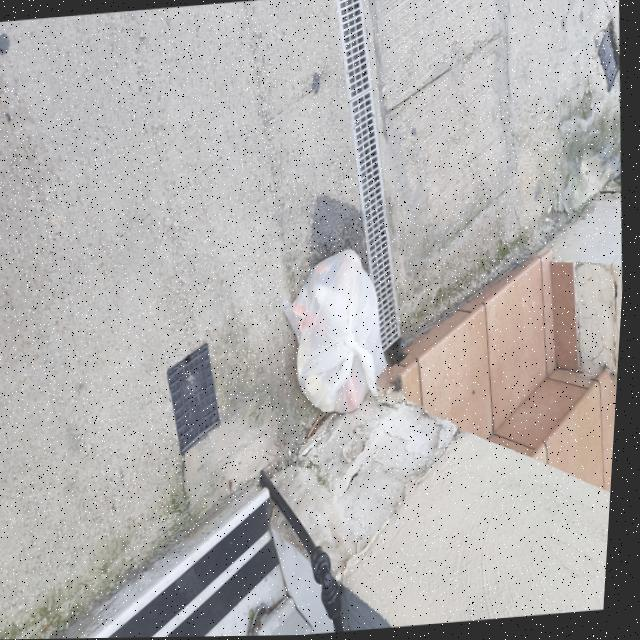Organic Waste -White Bag-: (281, 240, 406, 431)
